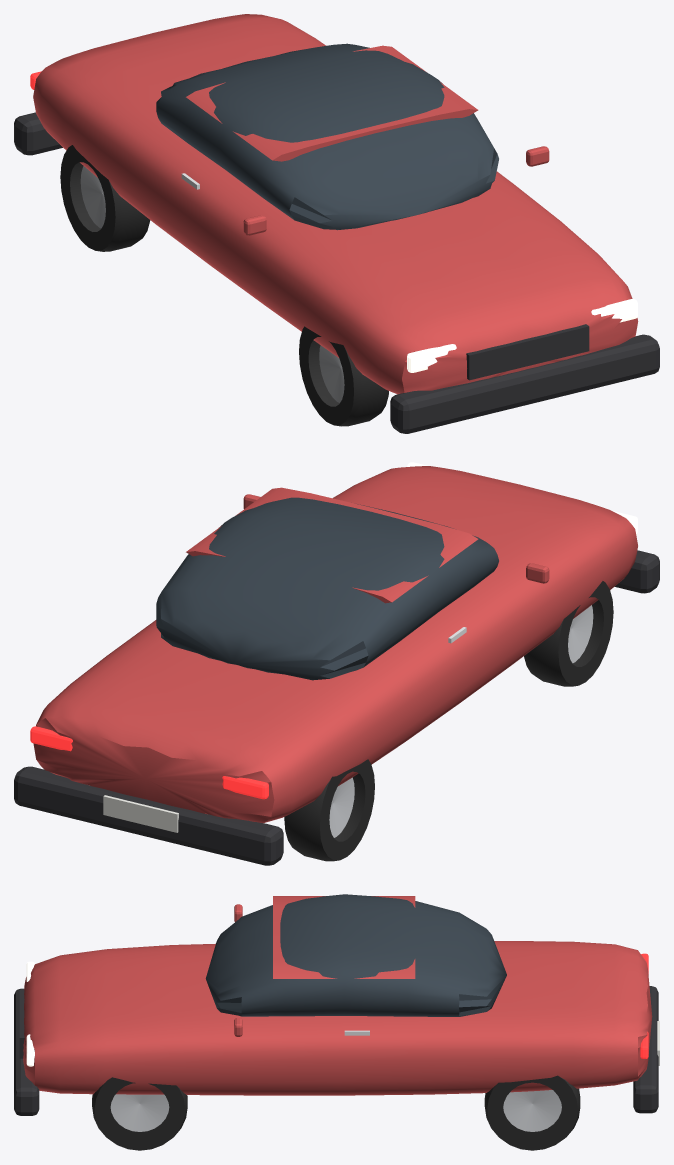
File: car_sedan.glb
3 renders of one model, top to bottom at view 1: azimuth 30°, elevation 25°; view 2: azimuth 150°, elevation 25°; view 3: azimuth 270°, elevation 25°, orthographic. The views are drawn at different scales.
Parts seen in each view (by area): view 1: body, glass, trim_parts, wheel_rl, wheel_fl, roof, headlights, details; view 2: body, glass, trim_parts, wheel_rl, wheel_fl, roof, details, taillights; view 3: body, glass, wheel_rr, wheel_fr, trim_parts, roof, details.
Boxes of the visible parts, box(x1,y1,x2,y2) form: body: box(33, 14, 638, 394); glass: box(156, 43, 498, 230); trim_parts: box(14, 112, 659, 433); wheel_rl: box(60, 145, 150, 251); wheel_fl: box(299, 326, 388, 426); roof: box(186, 45, 478, 161); headlights: box(407, 299, 637, 372); details: box(181, 146, 549, 235); body: box(33, 466, 637, 823); glass: box(156, 497, 498, 680); trim_parts: box(14, 550, 659, 865); wheel_rl: box(284, 759, 374, 861); wheel_fl: box(524, 581, 613, 686); roof: box(186, 487, 478, 603); details: box(103, 494, 549, 832); taillights: box(30, 726, 268, 799); body: box(23, 941, 652, 1095); glass: box(205, 894, 506, 1016); wheel_rr: box(484, 1075, 580, 1150); wheel_fr: box(92, 1077, 187, 1150); trim_parts: box(14, 986, 658, 1115); roof: box(273, 896, 415, 978); details: box(234, 904, 659, 1065).
Size of the model in its own units: 2.05 by 1.38 by 4.59.
